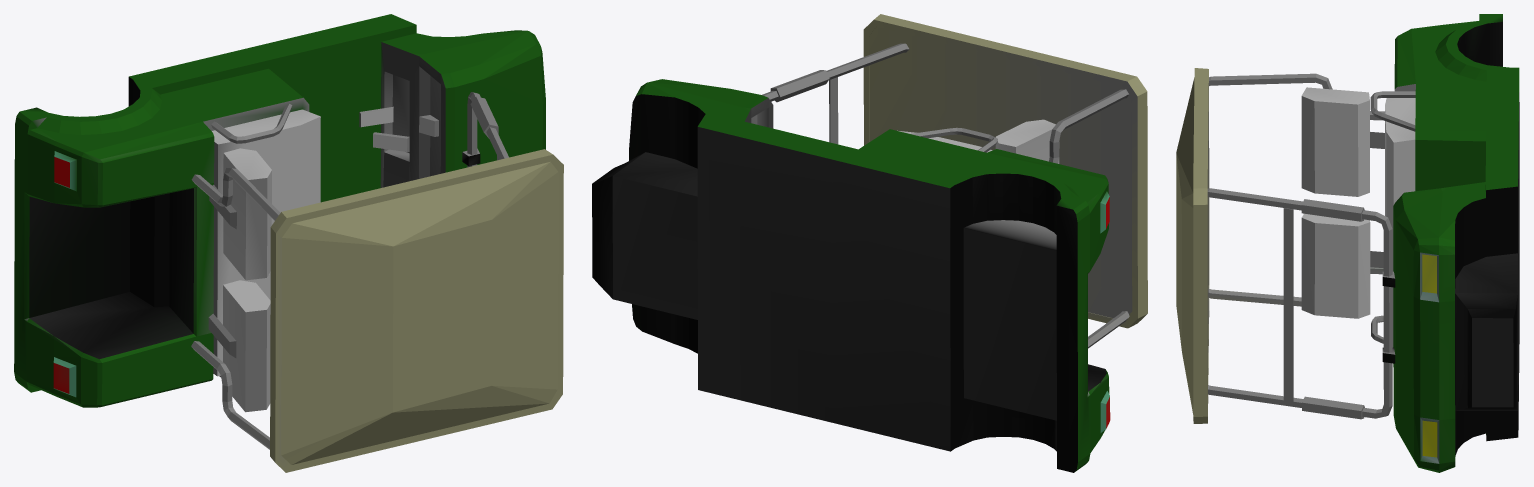
Rendered from carina.dae.
3 renders of one model, left to right at view 1: azimuth 30°, elevation 25°; view 2: azimuth 150°, elevation 25°; view 3: azimuth 270°, elevation 25°, orthographic. The views are drawn at different scales.
Parts seen in each view (by area): view 1: node; view 2: node; view 3: node.
Boxes of the visible parts, bbox=[...] form: node: bbox=[14, 14, 563, 472]; node: bbox=[592, 14, 1147, 472]; node: bbox=[1176, 14, 1519, 472].
Bounding box in the file's own units: 2.61 × 1.37 × 1.69.
